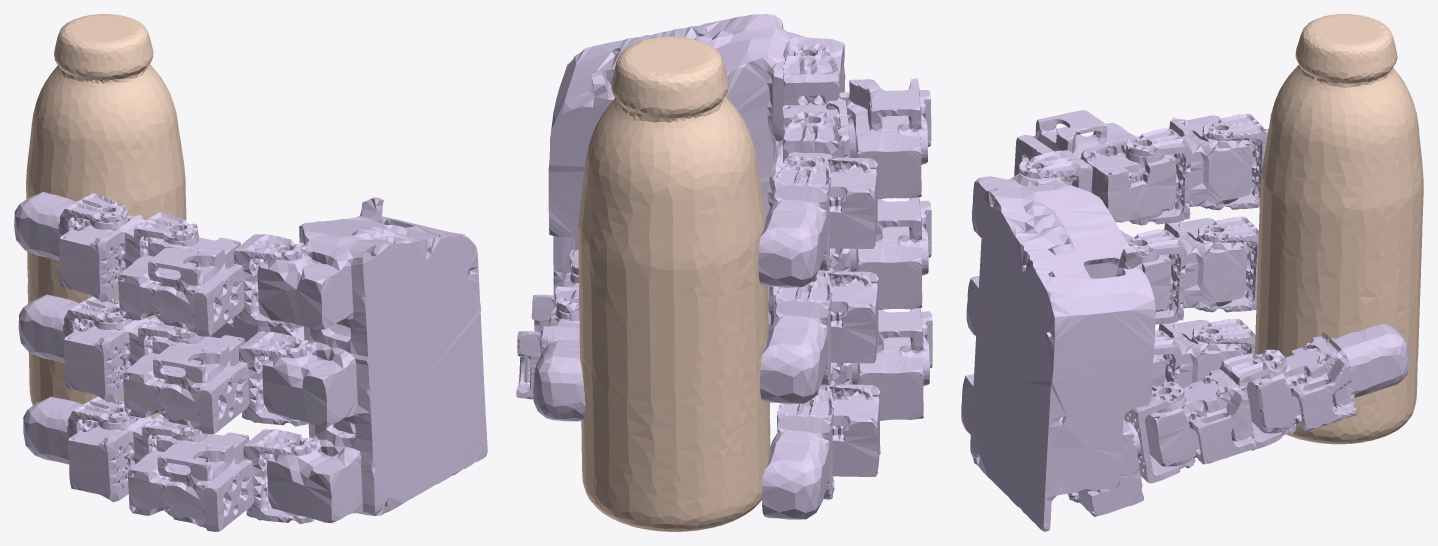
The model's file is df2995aab69436-final.glb.
3 renders of one model, left to right at view 1: azimuth 30°, elevation 25°; view 2: azimuth 150°, elevation 25°; view 3: azimuth 270°, elevation 25°, orthographic. The views are drawn at different scales.
Visible parts, largest first — view 1: LEAP_hand, world; view 2: LEAP_hand, world; view 3: LEAP_hand, world.
Boxes of the visible parts, x1=… form: LEAP_hand: x1=14, y1=192, x2=487, y2=531; world: x1=26, y1=14, x2=186, y2=418; LEAP_hand: x1=516, y1=14, x2=932, y2=519; world: x1=578, y1=36, x2=770, y2=531; LEAP_hand: x1=961, y1=110, x2=1410, y2=531; world: x1=1255, y1=14, x2=1423, y2=444.
Size of the model in its own units: 0.1703 by 0.1873 by 0.1934.
